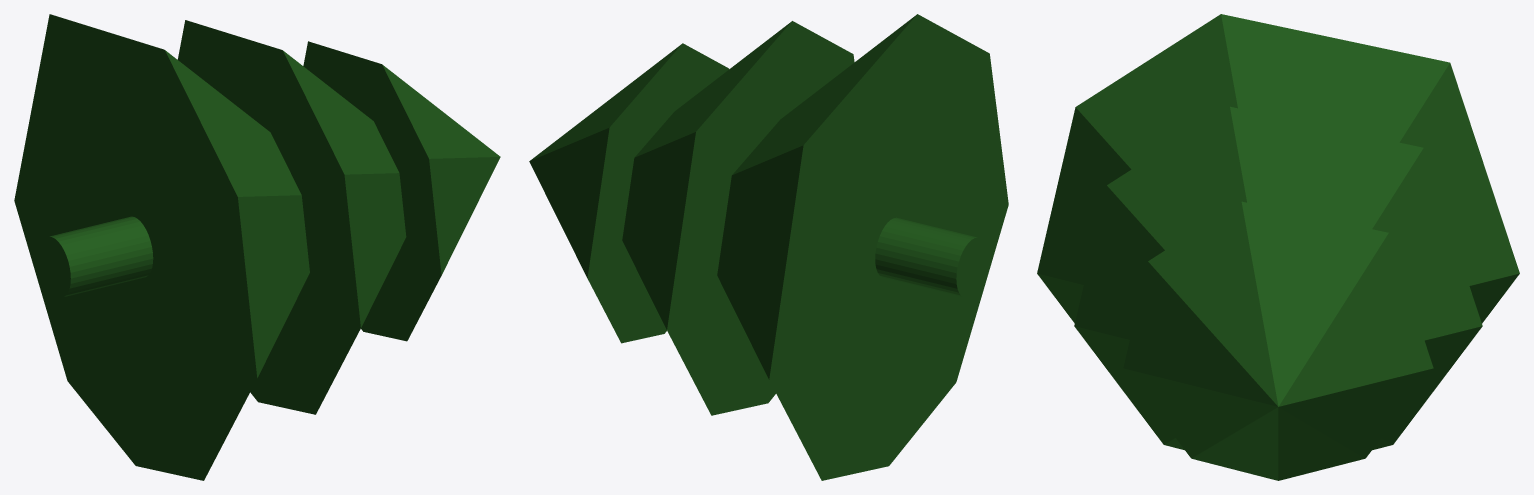
Rendered from low poly enviroment finshed.fbx.
3 views of the same model, side by side, from view 1: azimuth 30°, elevation 25°; view 2: azimuth 150°, elevation 25°; view 3: azimuth 270°, elevation 25° (orthographic).
Visible parts, largest first — view 1: Cylinder; view 2: Cylinder; view 3: Cylinder.
Part boxes in pixels (x1,y1,x2,y2): Cylinder: [14, 14, 500, 480]; Cylinder: [529, 14, 1008, 480]; Cylinder: [1037, 14, 1519, 480].
Bounding box in the file's own units: 127 × 119 × 120.
